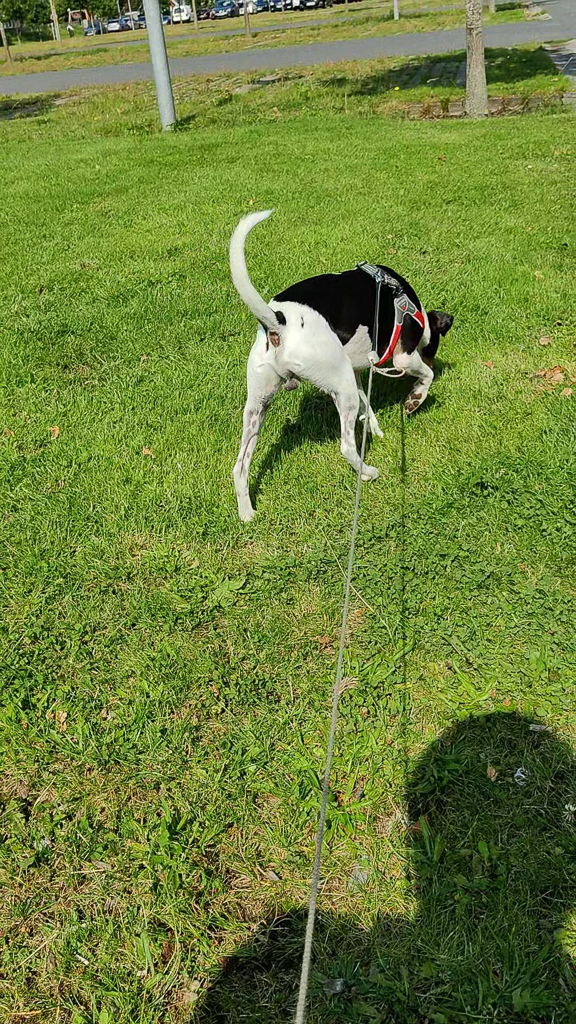Dog: (192, 204, 471, 532)
